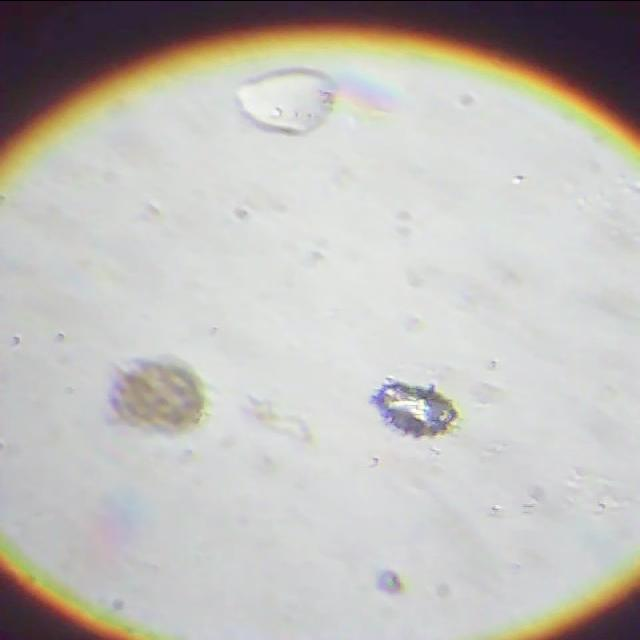alexandrium: (86, 352, 214, 438)
alexandrium minutum: (368, 364, 472, 448)
